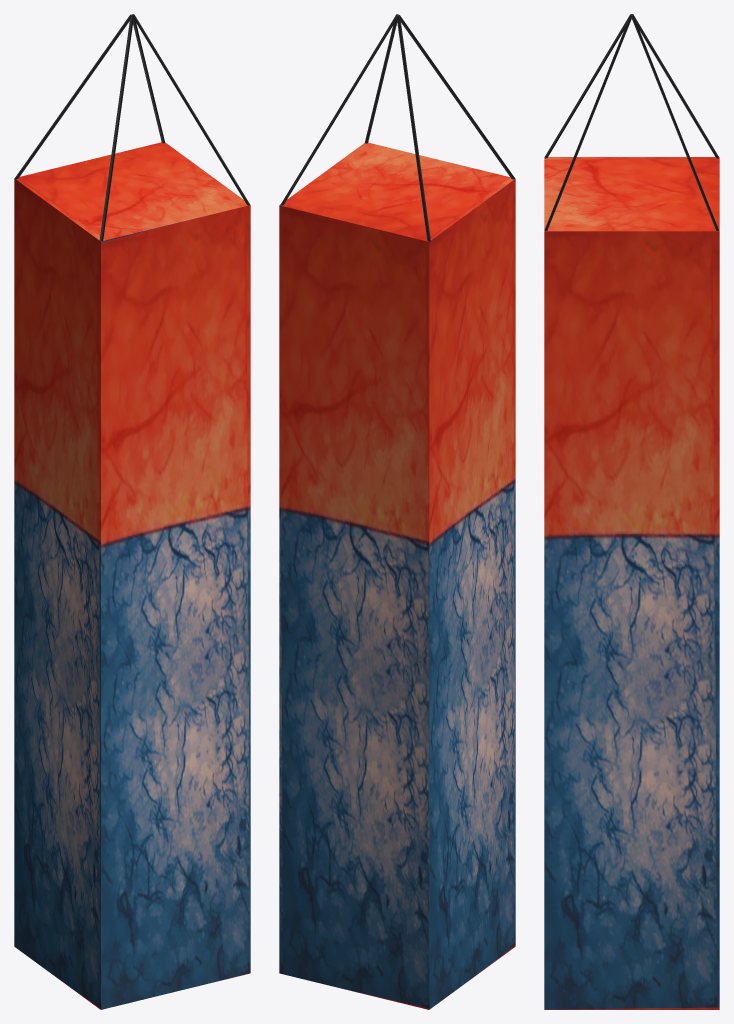
The model's file is 청사초롱 3.FBX.
3 views of the same model, side by side, from view 1: azimuth 30°, elevation 25°; view 2: azimuth 150°, elevation 25°; view 3: azimuth 270°, elevation 25° (orthographic).
Parts seen in each view (by area): view 1: 청사초롱 3; view 2: 청사초롱 3; view 3: 청사초롱 3.
Part boxes in pixels (bbox=[...]): 청사초롱 3: bbox=[14, 14, 250, 1009]; 청사초롱 3: bbox=[279, 14, 515, 1009]; 청사초롱 3: bbox=[544, 14, 719, 1009].
Size of the model in its own units: 8.38 by 50.33 by 8.36.
